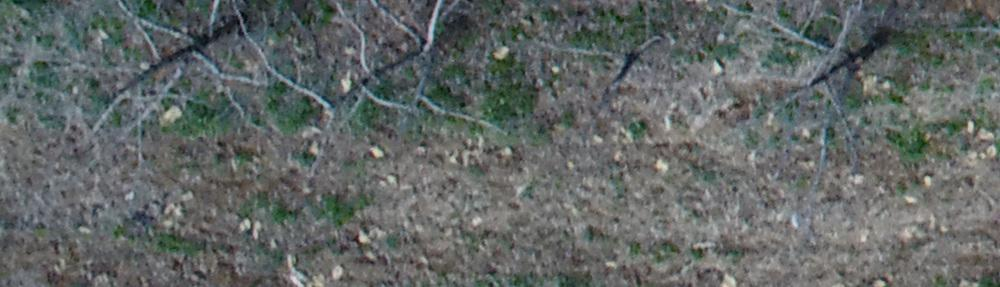apple: (28, 10, 323, 145), (307, 10, 539, 148), (698, 10, 922, 148)
